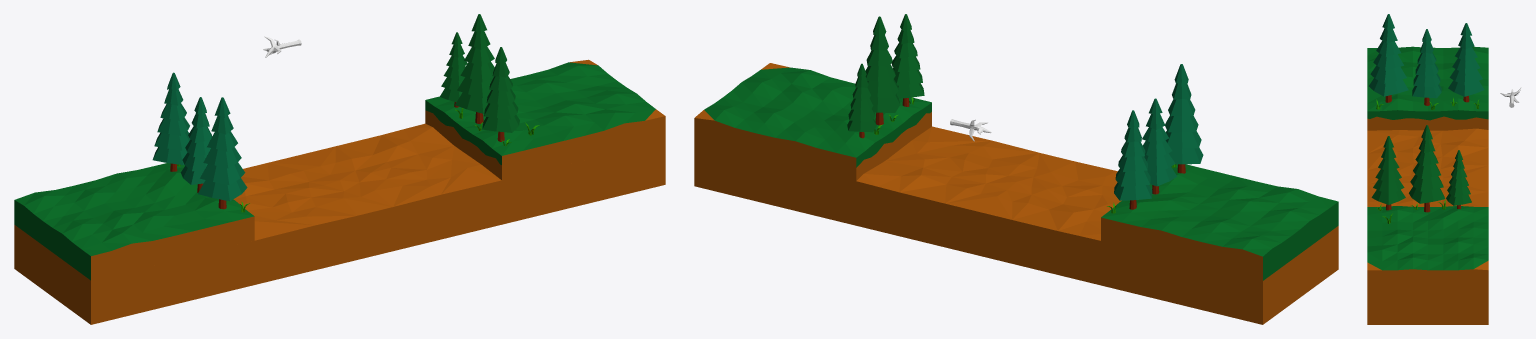
Rendered from Ground_1_Forest_1.fbx.
3 views of the same model, side by side, from view 1: azimuth 30°, elevation 25°; view 2: azimuth 150°, elevation 25°; view 3: azimuth 270°, elevation 25° (orthographic). The views are drawn at different scales.
Visible parts, largest first — view 1: Snow Long Snow Tree.006; view 2: Snow Long Snow Tree.006; view 3: Snow Long Snow Tree.006, Snow Long Snow Tree.002.
Part boxes in pixels (left/top/right/bottom): Snow Long Snow Tree.006: left=14, top=14, right=665, bottom=324; Snow Long Snow Tree.006: left=694, top=14, right=1338, bottom=324; Snow Long Snow Tree.006: left=1367, top=14, right=1488, bottom=324; Snow Long Snow Tree.002: left=1500, top=87, right=1521, bottom=107.
Bounding box in the file's own units: 11593 × 3505 × 3401.
